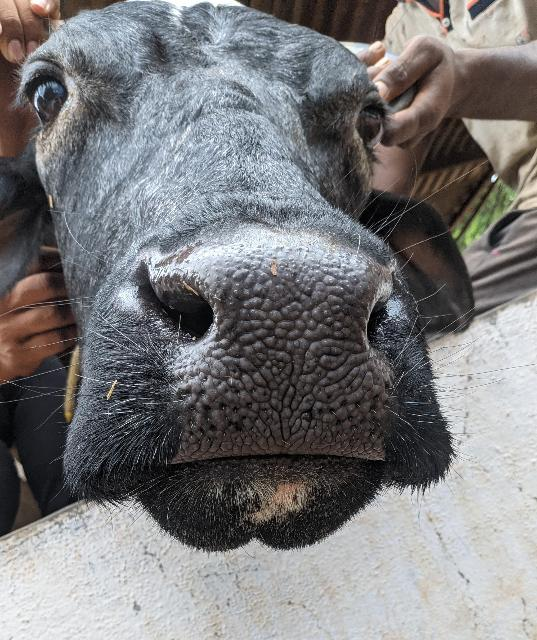Muzzle: (153, 258, 393, 467)
